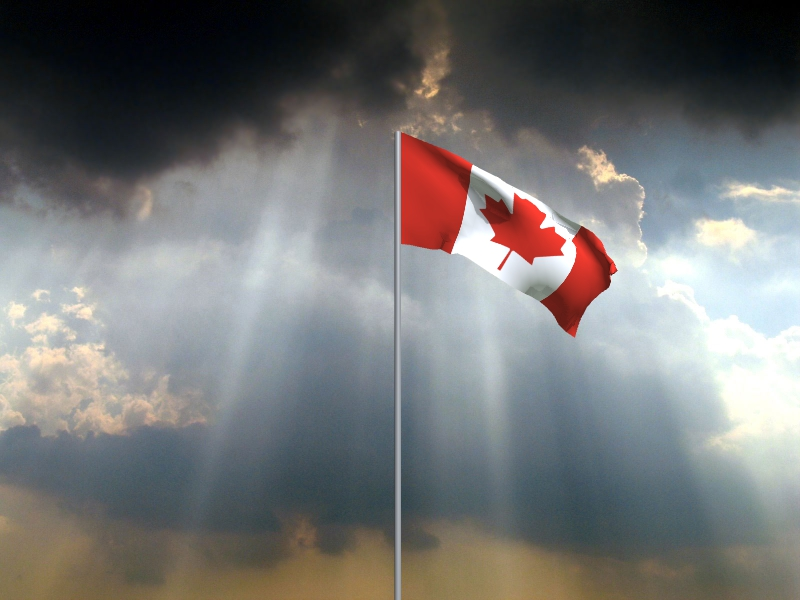ca: (402, 133, 619, 340)
